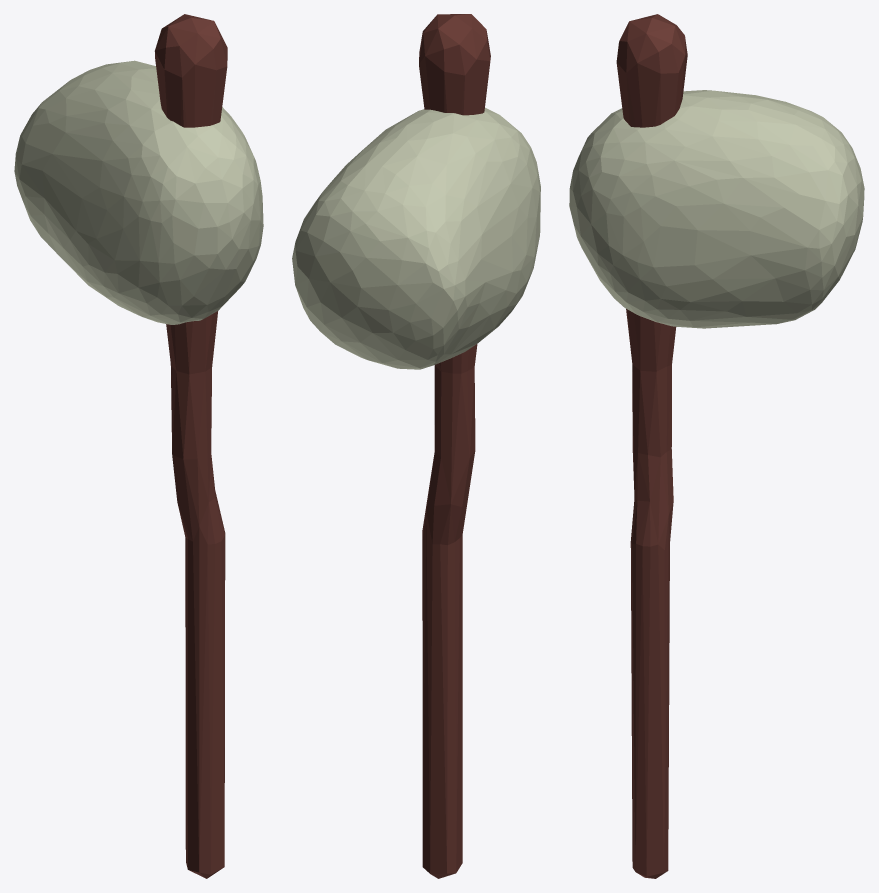
Rendered from hammer.fbx.
3 views of the same model, side by side, from view 1: azimuth 30°, elevation 25°; view 2: azimuth 150°, elevation 25°; view 3: azimuth 270°, elevation 25° (orthographic).
Parts seen in each view (by area): view 1: Icosphere; view 2: Icosphere; view 3: Icosphere.
Part boxes in pixels (bbox=[...]): Icosphere: bbox=[14, 14, 263, 878]; Icosphere: bbox=[292, 14, 540, 878]; Icosphere: bbox=[569, 14, 864, 878].
Bounding box in the file's own units: 44.16 × 217 × 67.82.
